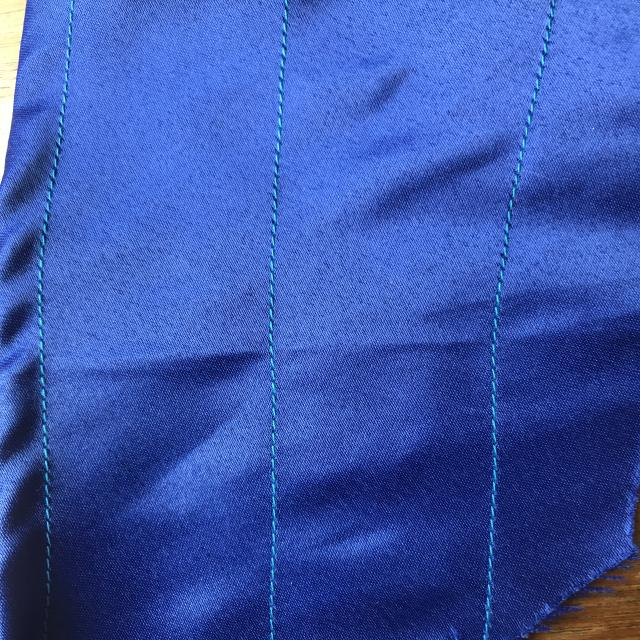good: (230, 186, 296, 315)
